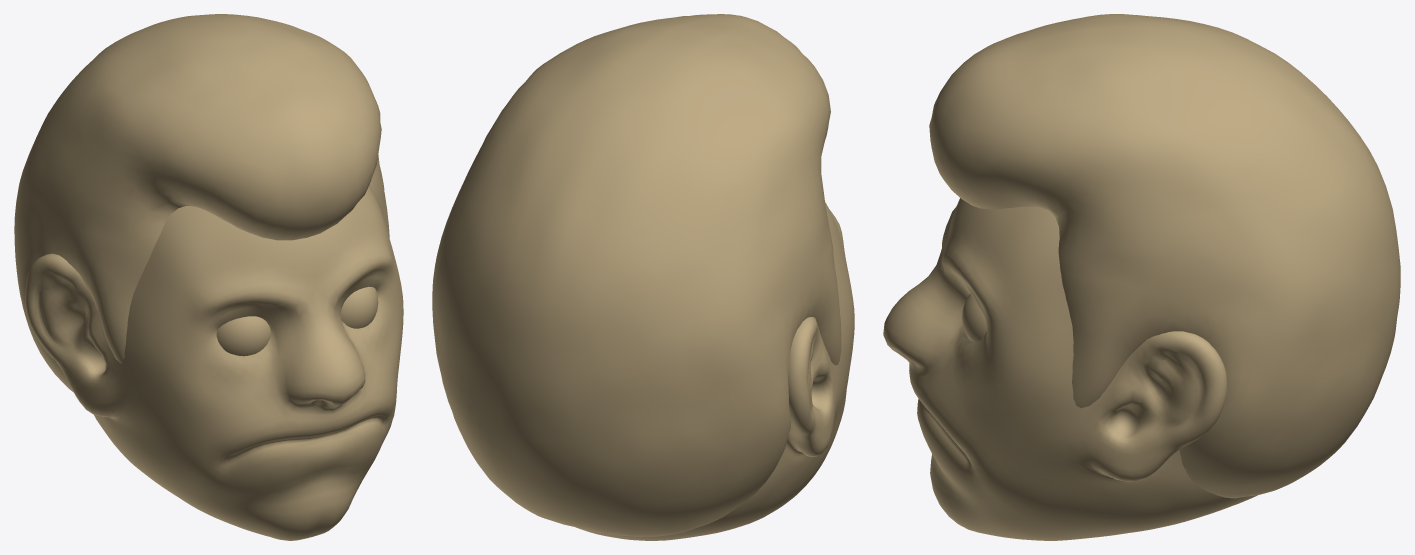
The model's file is SM_MaleHead02.fbx.
3 renders of one model, left to right at view 1: azimuth 30°, elevation 25°; view 2: azimuth 150°, elevation 25°; view 3: azimuth 270°, elevation 25°, orthographic. The views are drawn at different scales.
Parts seen in each view (by area): view 1: PM3D_Sphere3D1_5_cfd«sXAv«opy1; view 2: PM3D_Sphere3D1_5_cfd«sXAv«opy1; view 3: PM3D_Sphere3D1_5_cfd«sXAv«opy1.
Boxes of the visible parts, x1,y1,x2,y2 form: PM3D_Sphere3D1_5_cfd«sXAv«opy1: (14, 14, 403, 540); PM3D_Sphere3D1_5_cfd«sXAv«opy1: (432, 14, 854, 540); PM3D_Sphere3D1_5_cfd«sXAv«opy1: (883, 14, 1400, 540).
Bounding box in the file's own units: 9.04 × 11.76 × 11.16.
